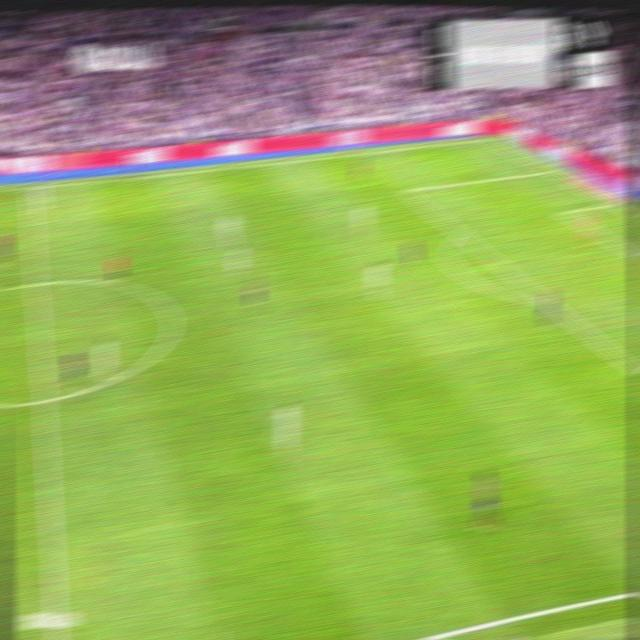bigarea_top_inner: (401, 184, 413, 195)
bigarea_top_outter: (542, 165, 555, 174)
corner: (481, 133, 496, 141)
halfcircle_bottom: (33, 386, 53, 412)
halfcircle_top: (25, 271, 46, 294)
midline_top_intersection: (22, 181, 37, 193)
smallarea_top_inner: (557, 206, 569, 215)
top_arc_area_intersection: (452, 225, 467, 239)
